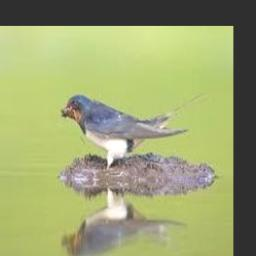Swallow: (62, 94, 207, 169)
